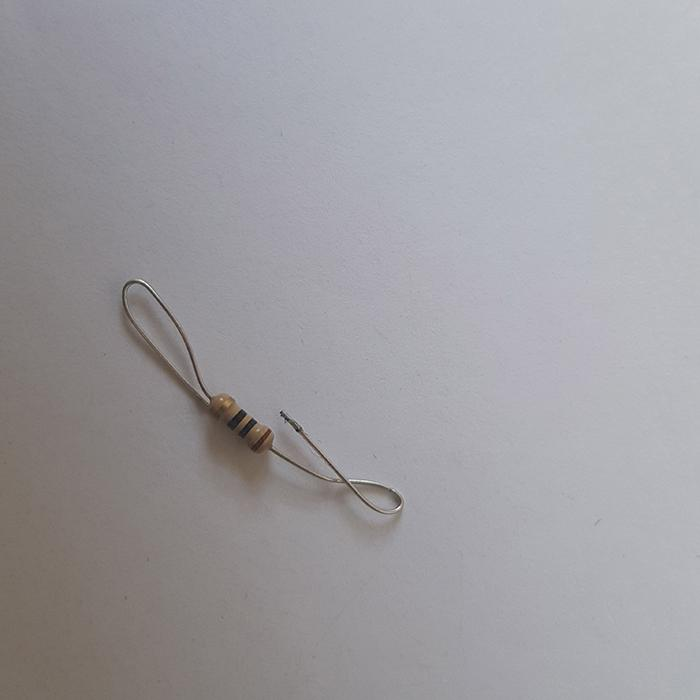resistor: (208, 392, 273, 453)
